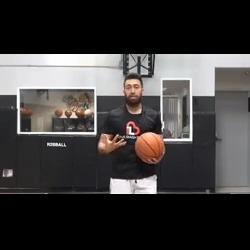BasketBall: (133, 130, 166, 165)
